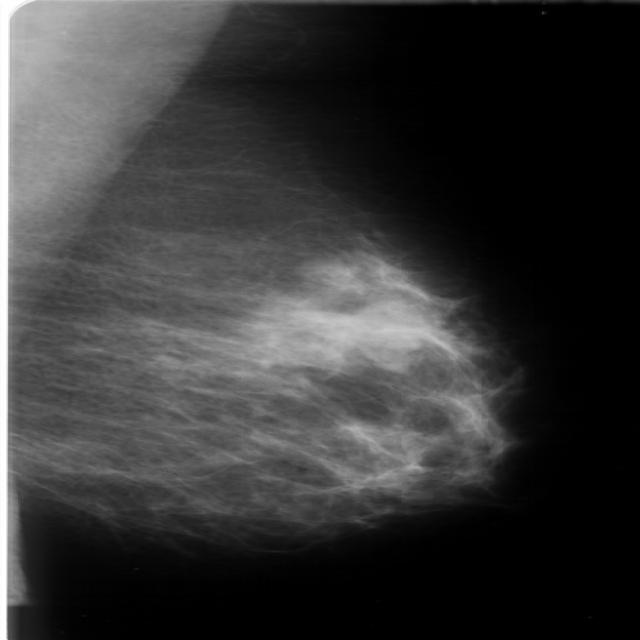tumour: (354, 298, 430, 350)
